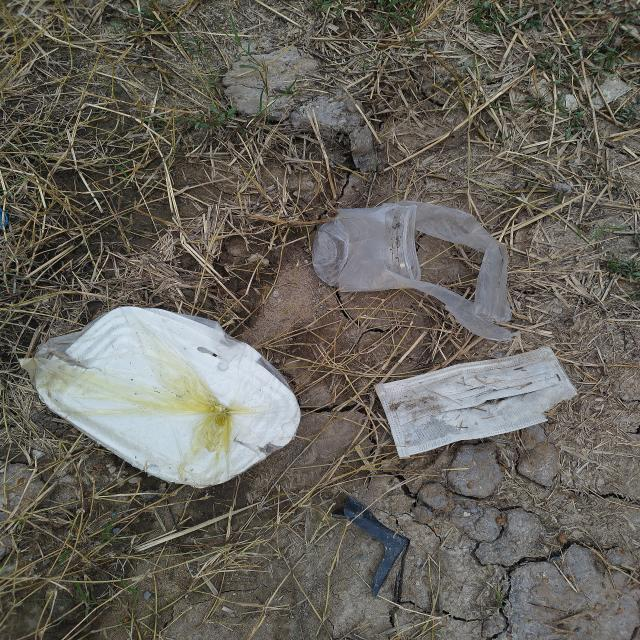bag: (313, 202, 512, 343)
mask: (376, 348, 578, 458)
trash bag: (36, 306, 302, 489)
